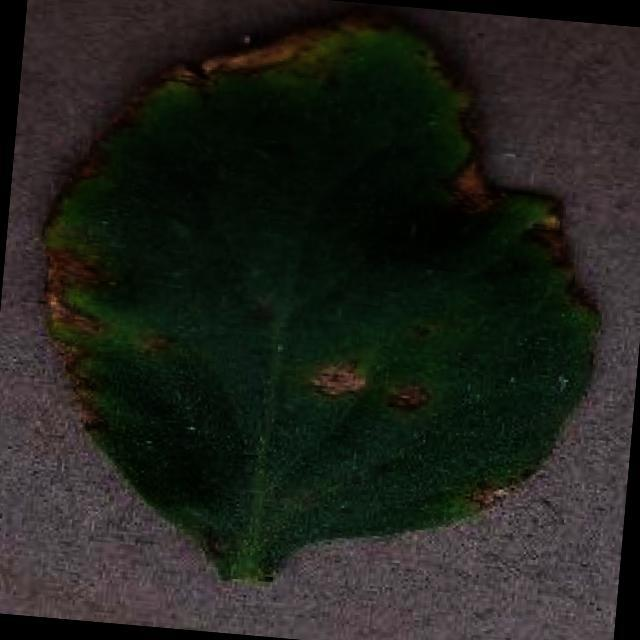Tomato bacterial spot leaf: (13, 0, 631, 584)
